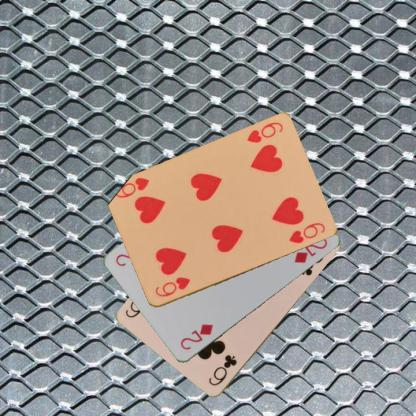2d: (178, 321, 214, 352)
6c: (206, 352, 238, 388)
6h: (244, 120, 285, 145), (152, 274, 192, 299)
